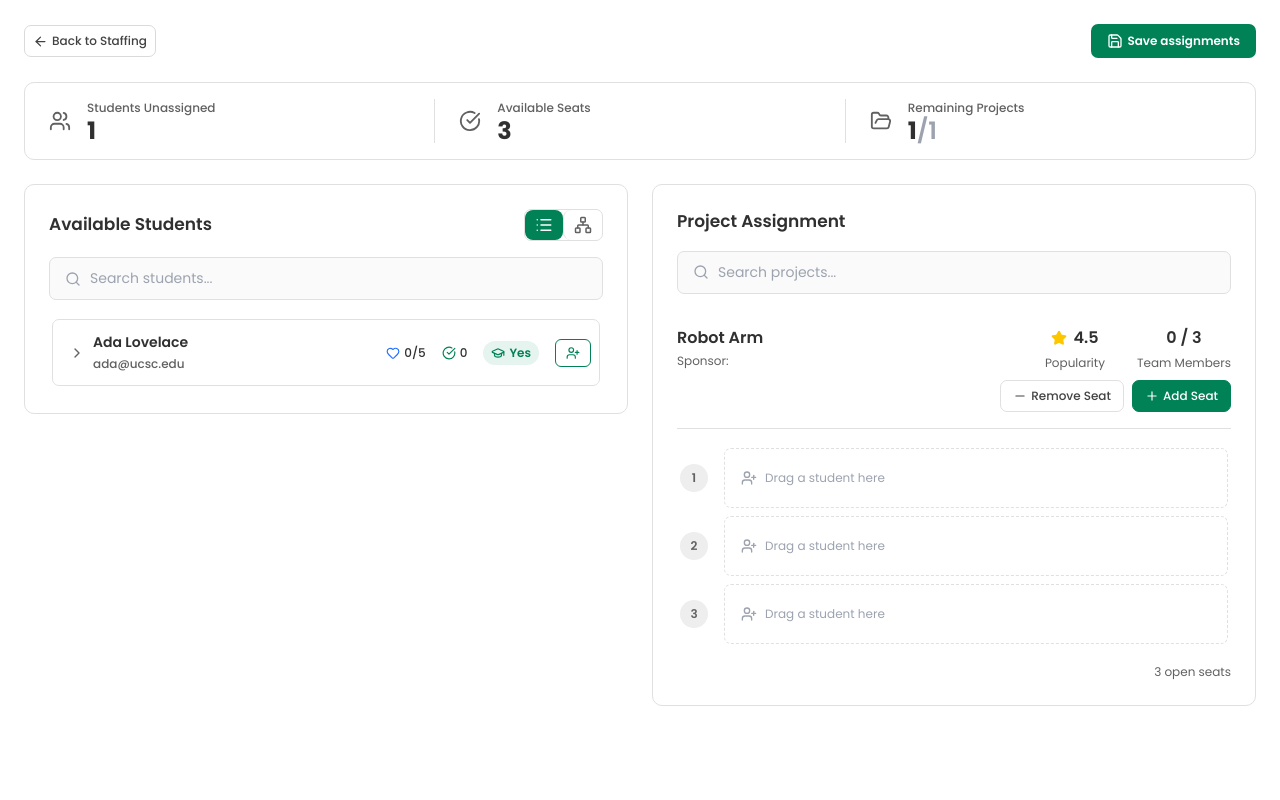
Assign › keeps the error from a failed save after the reload
# Place Ada in the focused project, then save that draft.
Click the button named "Add Ada Lovelace to focused project" at (573, 352), box [555,338,591,366]
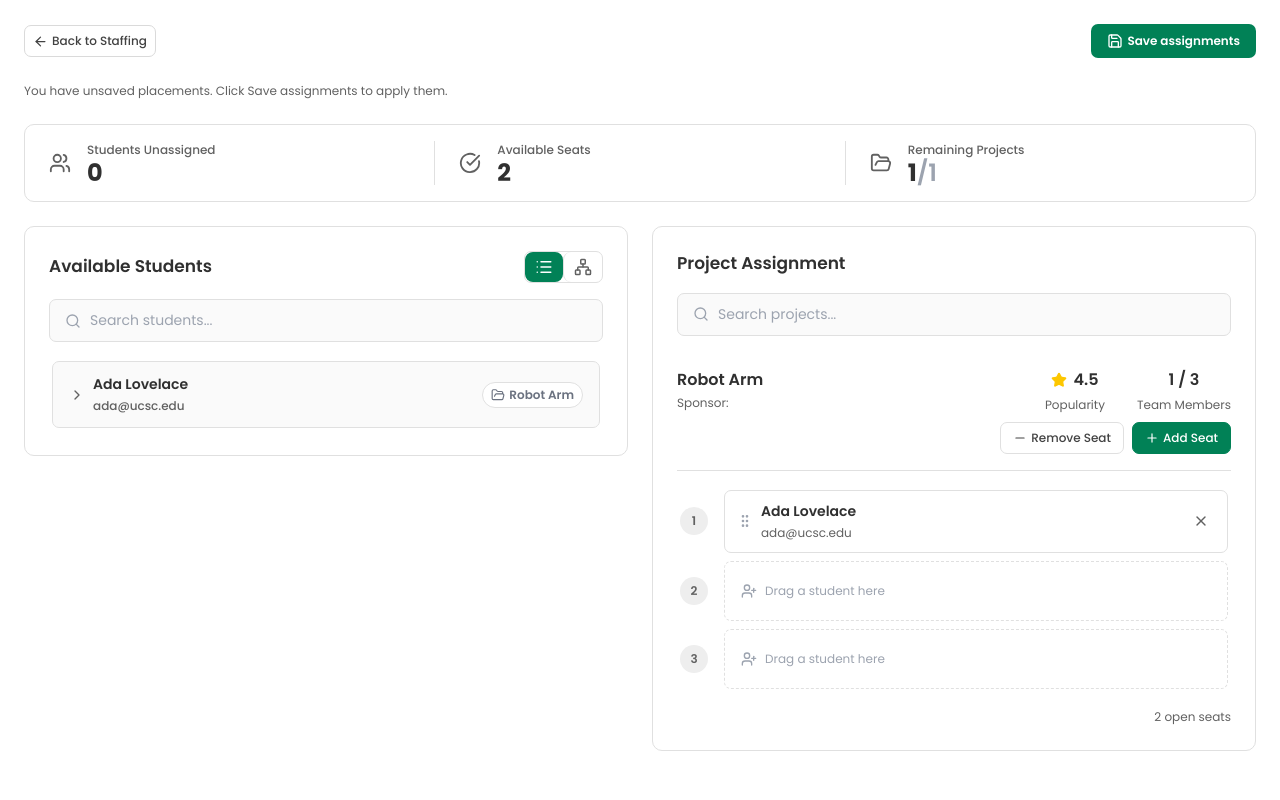
Click the button "Save assignments" at (1174, 41), box [1091,24,1256,58]
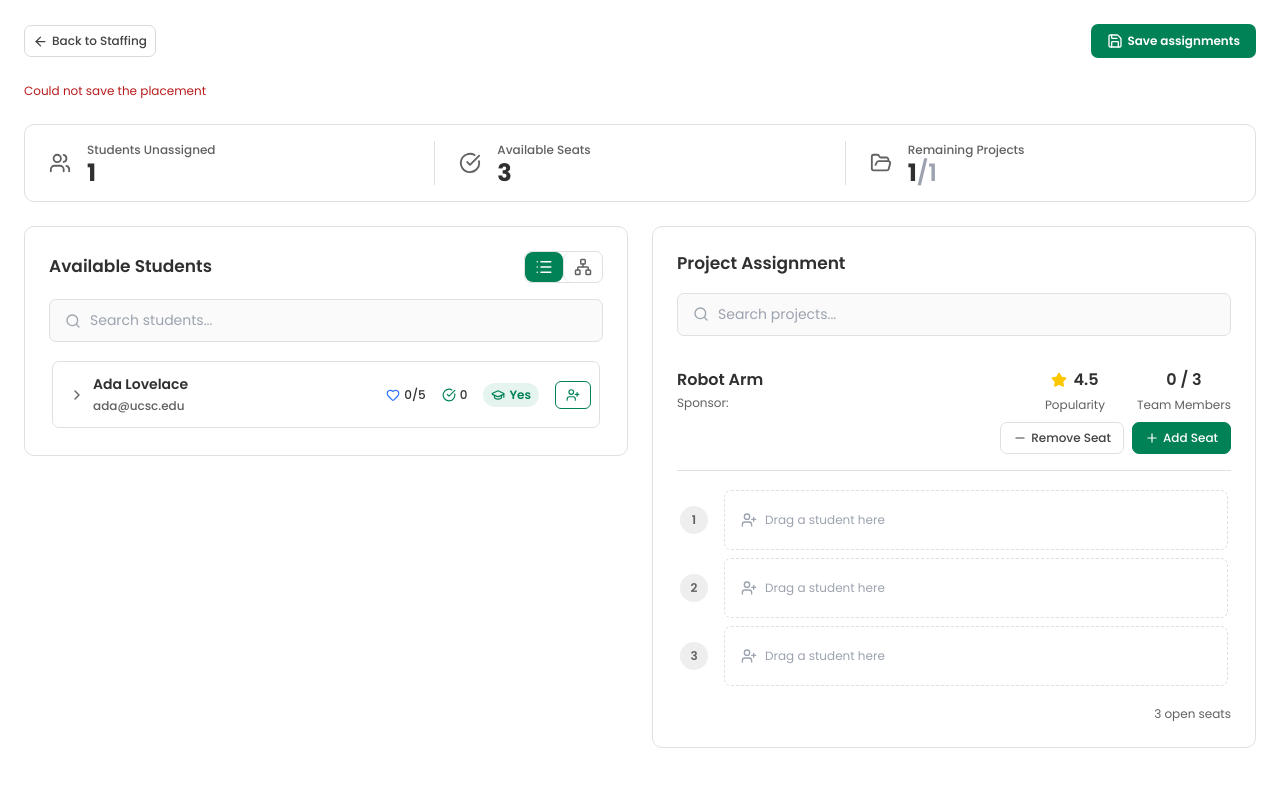
Check: the text "Could not save the placement" is shown, box [24,82,206,99]
